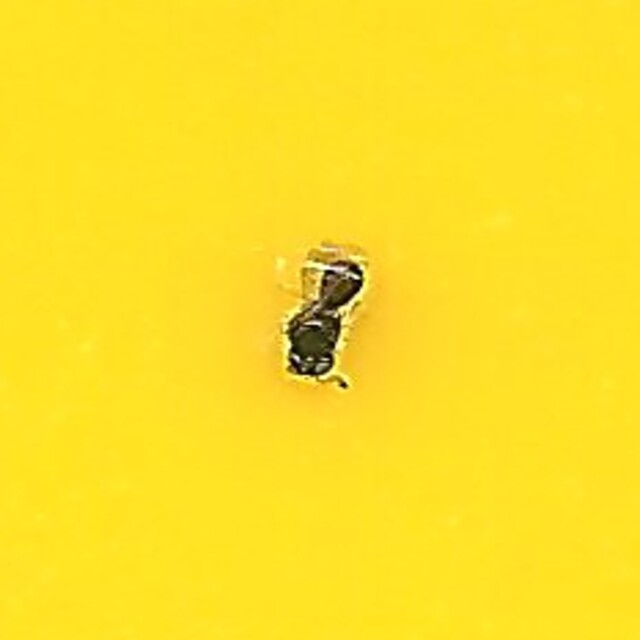Hymenoptera: (275, 239, 365, 401)
